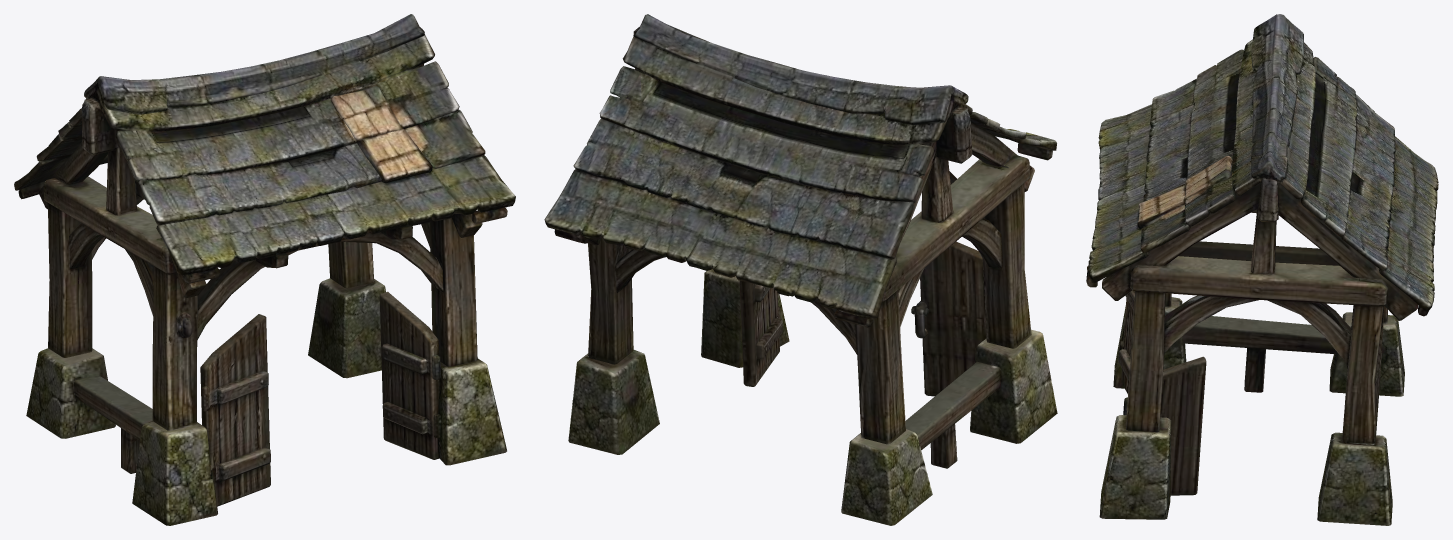
Rendered from act1-a02-1-lychgate-open.glb.
3 renders of one model, left to right at view 1: azimuth 30°, elevation 25°; view 2: azimuth 150°, elevation 25°; view 3: azimuth 270°, elevation 25°, orthographic. The views are drawn at different scales.
Parts seen in each view (by area): view 1: act1-a02-1-lychgate-open; view 2: act1-a02-1-lychgate-open; view 3: act1-a02-1-lychgate-open.
Boxes of the visible parts, x1,y1,x2,y2 form: act1-a02-1-lychgate-open: [14, 14, 515, 525]; act1-a02-1-lychgate-open: [544, 14, 1057, 525]; act1-a02-1-lychgate-open: [1086, 14, 1438, 525].
Size of the model in its own units: 3.51 by 3.8 by 3.3.
1 material, 1 textured.
